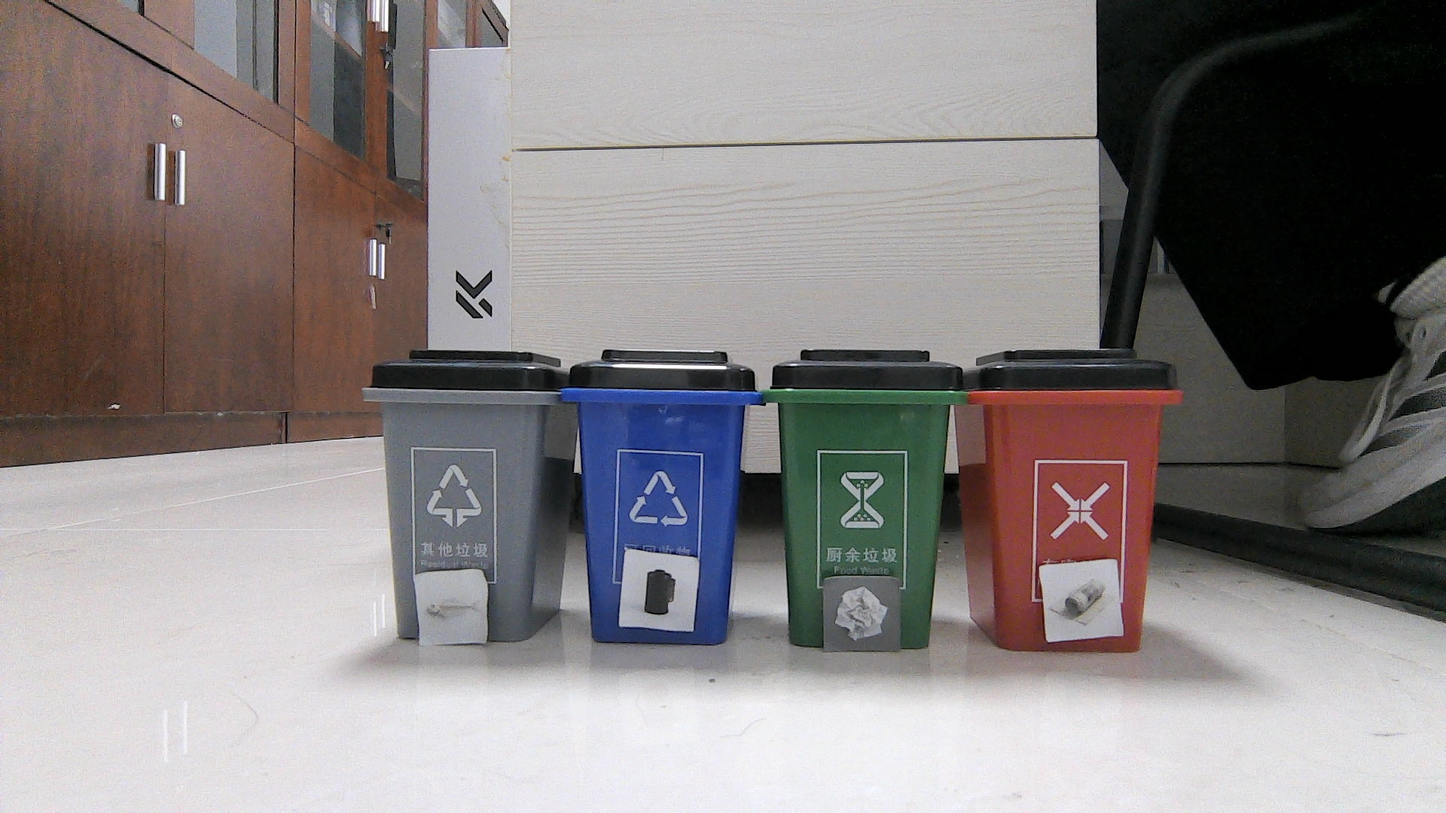food_trash: (418, 574, 484, 641)
hazardous_trash: (629, 556, 689, 626)
other_trash: (827, 581, 898, 646)
recyclable_trash: (1046, 563, 1118, 636)
